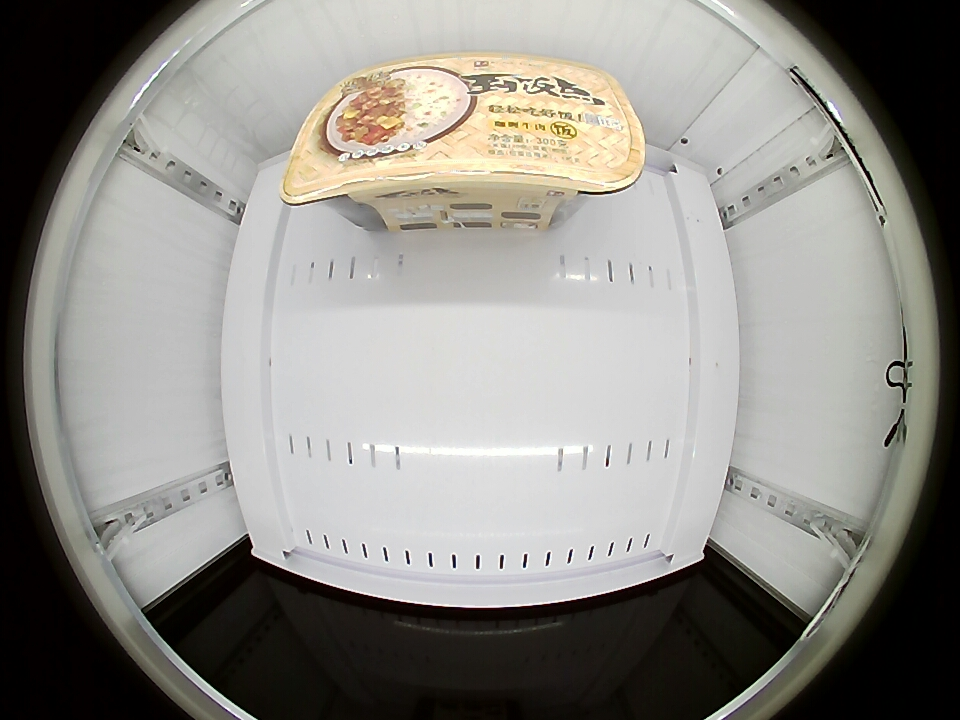daofandian2: (283, 54, 647, 230)
